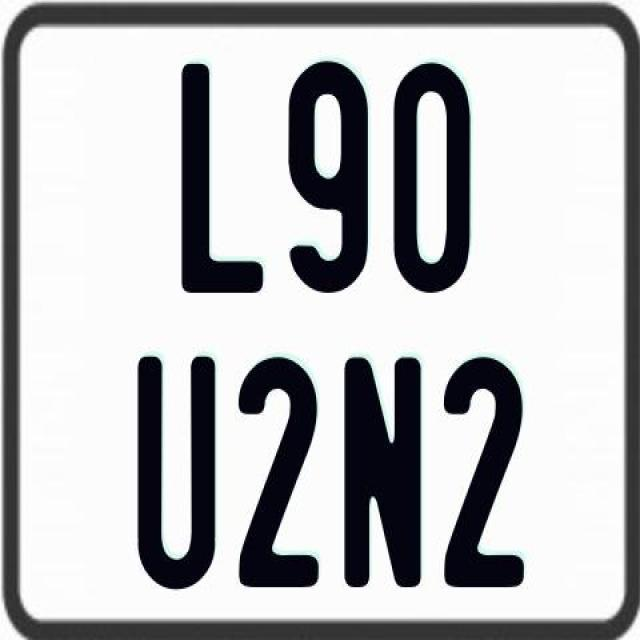0: (391, 63, 476, 294)
2: (442, 354, 526, 586), (238, 352, 322, 582)
9: (286, 58, 374, 294)
L: (178, 62, 260, 293)
N: (339, 354, 422, 586)
U: (138, 356, 218, 588)
